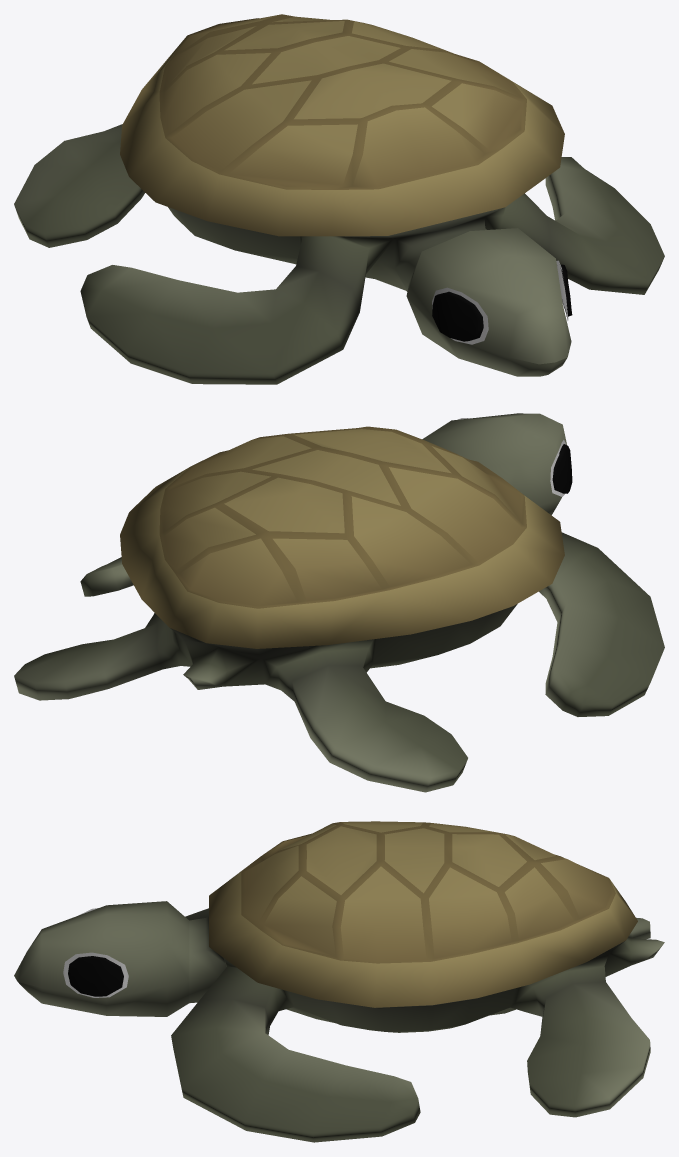
Rendered from underwater-whales-sharks-turtles-sea-turtle_v1.glb.
The picture shows the model from 3 angles, top to bottom: view 1: azimuth 30°, elevation 25°; view 2: azimuth 150°, elevation 25°; view 3: azimuth 270°, elevation 25°; orthographic projection. The views are drawn at different scales.
Visible parts, largest first — view 1: Sea Turtle_v1; view 2: Sea Turtle_v1; view 3: Sea Turtle_v1.
Part boxes in pixels (box(x1,y1,x2,y2)): Sea Turtle_v1: box(14, 14, 664, 384); Sea Turtle_v1: box(14, 413, 664, 792); Sea Turtle_v1: box(14, 821, 664, 1142).
Size of the model in its own units: 0.8376 by 0.311 by 1.
